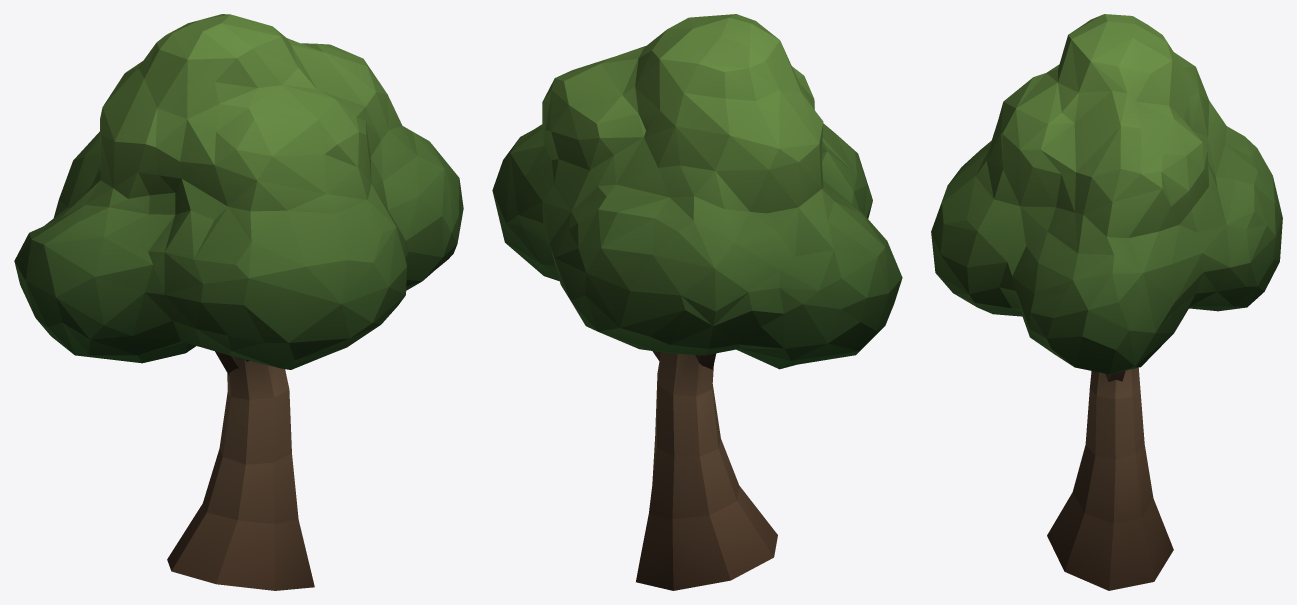
File: dab_1.glb
3 renders of one model, left to right at view 1: azimuth 30°, elevation 25°; view 2: azimuth 150°, elevation 25°; view 3: azimuth 270°, elevation 25°, orthographic. The views are drawn at different scales.
Visible parts, largest first — view 1: dab_1; view 2: dab_1; view 3: dab_1.
Boxes of the visible parts, bbox=[...] form: dab_1: bbox=[14, 14, 463, 590]; dab_1: bbox=[492, 14, 902, 590]; dab_1: bbox=[931, 14, 1282, 590].
Bounding box in the file's own units: 2.18 × 2.89 × 1.74.
